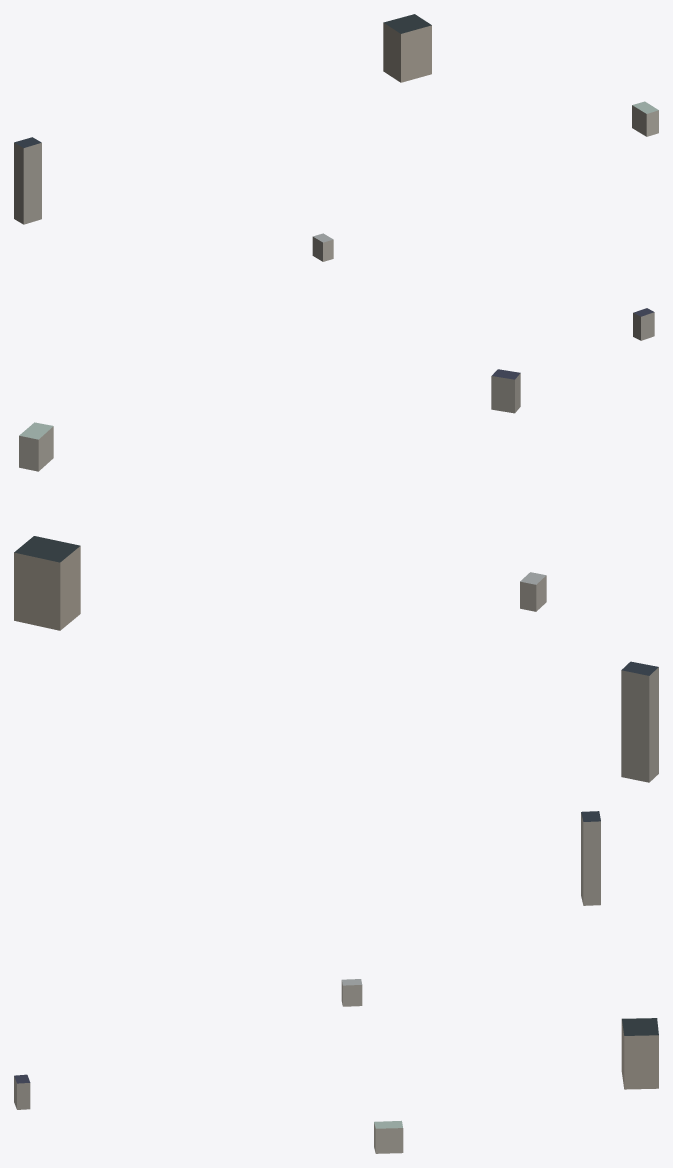
The picture shows the model from 3 angles, top to bottom: view 1: azimuth 30°, elevation 25°; view 2: azimuth 150°, elevation 25°; view 3: azimuth 270°, elevation 25°; orthographic projection. The views are drawn at different scales.
Visible parts, largest first — view 1: tuile; view 2: tuile; view 3: tuile.
Part boxes in pixels (x1,y1,x2,y2): tuile: [14, 14, 658, 340]; tuile: [14, 369, 658, 782]; tuile: [14, 811, 658, 1153].
Size of the model in its own units: 113 by 18.72 by 106.
